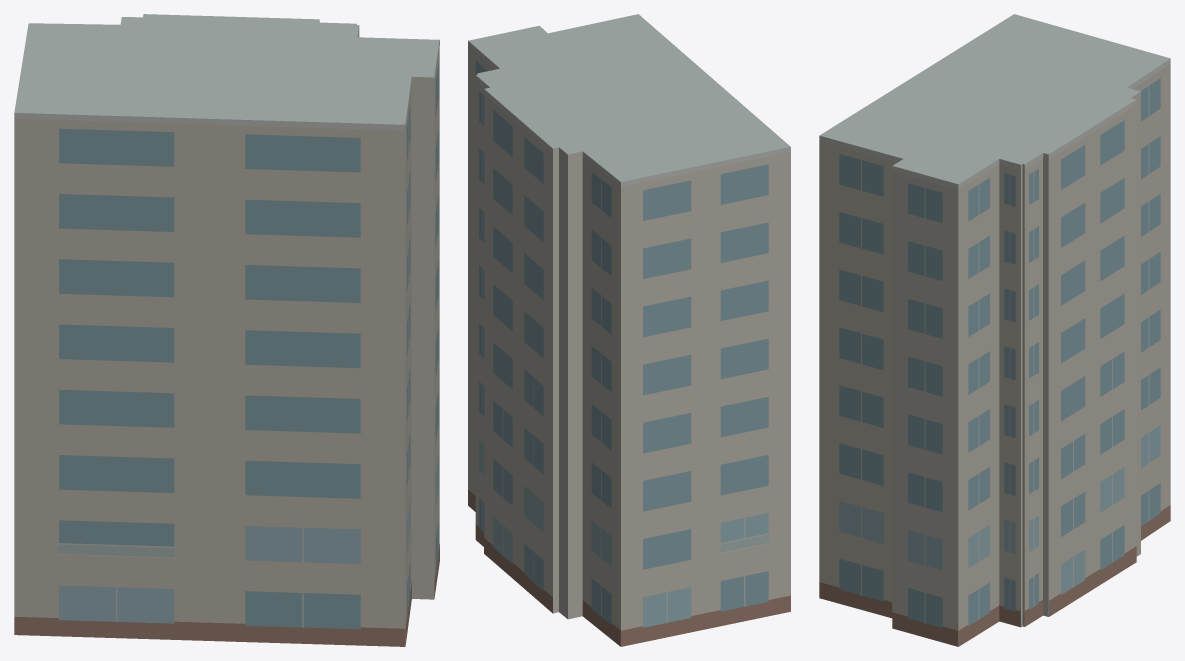
The model's file is survey-upis-32528564.glb.
3 renders of one model, left to right at view 1: azimuth 30°, elevation 25°; view 2: azimuth 150°, elevation 25°; view 3: azimuth 270°, elevation 25°, orthographic. The views are drawn at different scales.
Visible parts, largest first — view 1: survey-upis-32528564.tmp; view 2: survey-upis-32528564.tmp; view 3: survey-upis-32528564.tmp.
Boxes of the visible parts, box(x1,y1,x2,y2) form: survey-upis-32528564.tmp: box(14, 14, 439, 646); survey-upis-32528564.tmp: box(468, 14, 790, 646); survey-upis-32528564.tmp: box(819, 14, 1170, 646).
Size of the model in its own units: 17.3 by 21.9 by 15.09.
